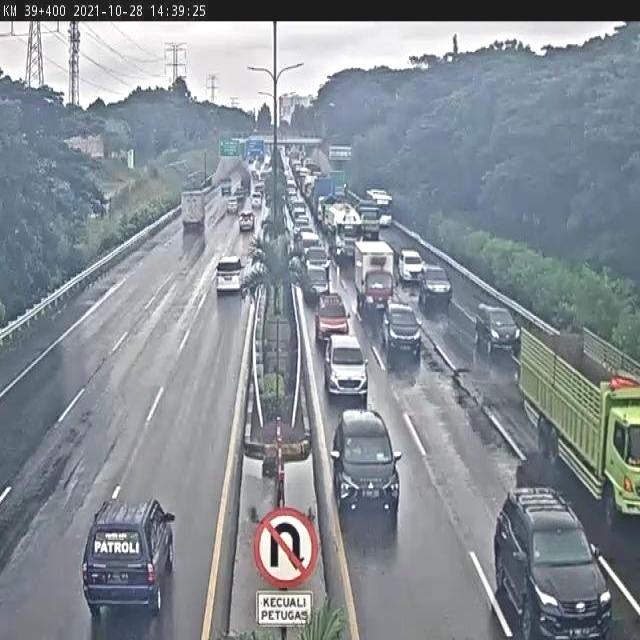Car: (490, 478, 612, 640), (82, 498, 175, 617), (331, 408, 404, 522), (323, 330, 368, 401), (474, 303, 523, 360), (381, 300, 422, 367), (314, 293, 350, 344), (419, 264, 454, 312), (398, 249, 424, 282), (217, 256, 240, 292), (304, 246, 329, 275), (300, 230, 321, 255), (238, 210, 255, 232), (292, 202, 307, 223), (286, 189, 299, 212), (226, 197, 239, 214), (251, 191, 262, 209), (286, 179, 296, 197), (255, 180, 265, 194)
Truck: (517, 318, 640, 495), (355, 235, 396, 316), (181, 186, 210, 232)
